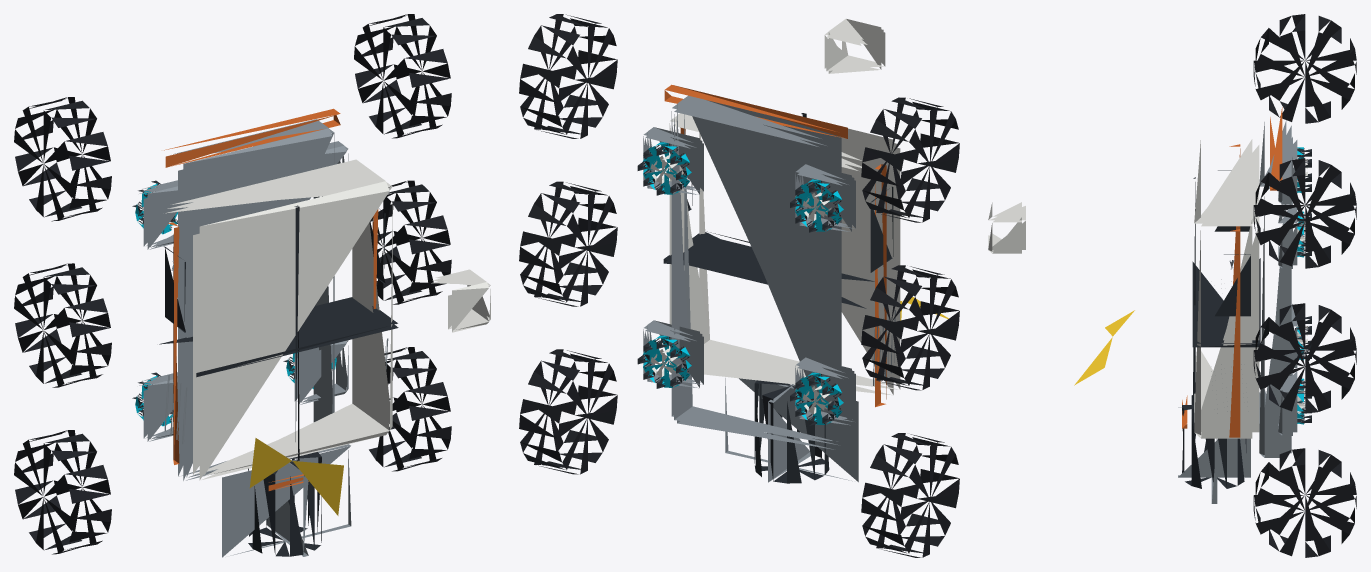
File: ares_vi_aaa_lod2.obj
3 views of the same model, side by side, from view 1: azimuth 30°, elevation 25°; view 2: azimuth 150°, elevation 25°; view 3: azimuth 270°, elevation 25° (orthographic). The views are drawn at different scales.
Visible parts, largest first — view 1: Hull_ArmorUpper, Chassis_MainSpine, Wheel_ML_TireBody, Wheel_FR_TireBody, Wheel_RL_TireBody, Wheel_FL_TireBody, Wheel_MR_TireBody, MMRTG_Fin_Horiz, Wheel_RR_TireBody, Hull_SeamTransverse, MMRTG_MainCore, Antenna_GoldDish (+9 smaller); view 2: Chassis_MainSpine, Hull_ArmorUpper, Wheel_MR_TireBody, Wheel_RR_TireBody, Wheel_RL_TireBody, Wheel_FR_TireBody, Wheel_ML_TireBody, Wheel_FL_TireBody, MMRTG_Fin_Horiz, Hull_SeamTransverse, MMRTG_MainCore, Mast_ChemCamHead (+12 smaller); view 3: Hull_ArmorUpper, Wheel_FL_TireBody, Wheel_RR_TireBody, Wheel_MR_TireBody, Wheel_FR_TireBody, Chassis_MainSpine, Hull_SeamTransverse, MMRTG_MainCore, MMRTG_Fin_Vert, Mast_ChemCamHead, Hull_SafetyStrake_R, Hull_ServiceDoor_R (+4 smaller).
Boxes of the visible parts, x1,y1,x2,y2 form: Hull_ArmorUpper: (165,159,392,480); Chassis_MainSpine: (173,119,334,480); Wheel_ML_TireBody: (14,263,111,387); Wheel_FR_TireBody: (354,14,451,138); Wheel_RL_TireBody: (14,430,111,554); Wheel_FL_TireBody: (14,97,111,221); Wheel_MR_TireBody: (370,180,451,304); MMRTG_Fin_Horiz: (222,444,351,557); Wheel_RR_TireBody: (369,347,451,471); Hull_SeamTransverse: (159,297,398,377); MMRTG_MainCore: (248,452,321,556); Antenna_GoldDish: (249,438,343,515); Chassis_MainSpine: (671,95,841,449); Hull_ArmorUpper: (669,113,900,395); Wheel_MR_TireBody: (519,181,617,306); Wheel_RR_TireBody: (519,349,617,474); Wheel_RL_TireBody: (861,433,959,557); Wheel_FR_TireBody: (519,14,617,138); Wheel_ML_TireBody: (861,265,959,390); Wheel_FL_TireBody: (861,97,959,222); MMRTG_Fin_Horiz: (725,378,858,482); Hull_SeamTransverse: (663,231,906,308); MMRTG_MainCore: (754,380,829,483); Mast_ChemCamHead: (824,19,885,73); Hull_ArmorUpper: (1194,139,1259,438); Wheel_FL_TireBody: (1253,14,1356,123); Wheel_RR_TireBody: (1253,448,1356,557); Wheel_MR_TireBody: (1253,303,1356,412); Wheel_FR_TireBody: (1253,158,1356,267); Chassis_MainSpine: (1259,120,1291,457); Hull_SeamTransverse: (1192,258,1260,347); MMRTG_MainCore: (1182,395,1246,488); MMRTG_Fin_Vert: (1178,407,1250,477); Mast_ChemCamHead: (988,202,1025,253); Hull_SafetyStrake_R: (1229,229,1240,437); Hull_ServiceDoor_R: (1215,254,1250,316).
Size of the model in its own units: 2.81 by 3.12 by 2.72.
